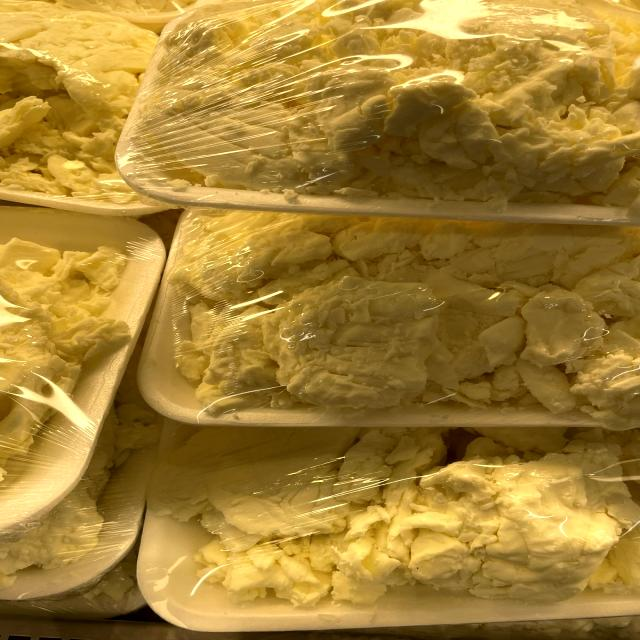cheese: (176, 218, 640, 419), (164, 13, 640, 207), (162, 435, 640, 617)
